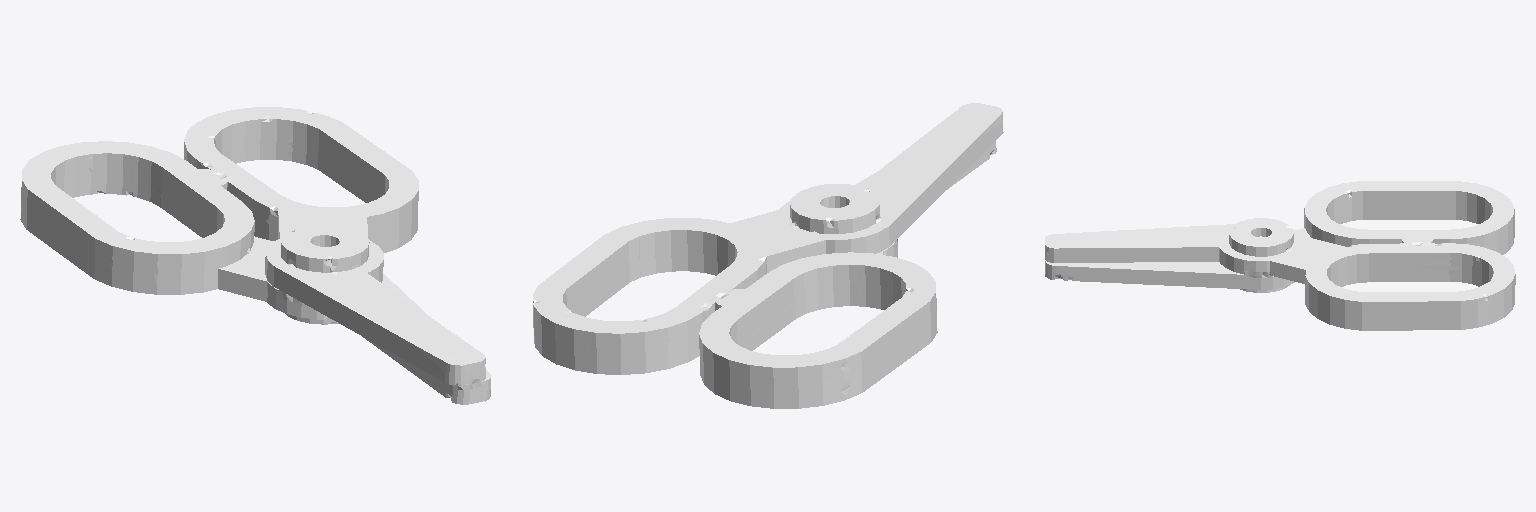
The robot description file, URDF, robot "custom":
<?xml version="1.0"?>
<robot name="custom">
  <material name="Blanc">
    <color rgba="1.0 1.0 1.0 1.0"/>
  </material>
  <link name="base_link">
    <visual>
      <origin xyz="0 0 0" rpy="0 0 0"/>
      <geometry>
        <mesh filename="handoff_scissors.obj" scale="1 1 1"/>
      </geometry>
      <material name="Blanc"/>
    </visual>
    <collision>
      <origin xyz="0 0 0" rpy="0 0 0"/>
      <geometry>
	 	     <mesh filename="handoff_scissors.obj" scale="1 1 1"/>
      </geometry>
    </collision>
    <contact>
      <lateral_friction value="5.0"/>
      <rolling_friction value="0.0001"/>
      <inertia_scaling value="3.0"/>
    </contact>
    <inertial>
      <origin rpy="0 0 0" xyz="0 0 0"/>
       <mass value="0.05"/>
       <inertia ixx="1" ixy="0" ixz="0" iyy="1" iyz="0" izz="1"/>
    </inertial>
  </link>

</robot>

--- Render facts (derived) ---
3 views of the same robot in one strip: view 1: azimuth 30°, elevation 25°; view 2: azimuth 150°, elevation 25°; view 3: azimuth 270°, elevation 25° (orthographic).
Model custom with 1 links and 0 joints (none), rooted at base_link, posed all joints at 0.
Links seen in each view (by area): view 1: base_link; view 2: base_link; view 3: base_link.
Boxes of the visible links, x1,y1,x2,y2 form: base_link: (20,107,490,404); base_link: (533,103,1003,408); base_link: (1045,181,1515,330).
Size in the robot's own frame: 0.074 by 0.13 by 0.0147 metres.
Meshes: 1 distinct files referenced, 1 mesh visuals loaded (1 OBJ).
